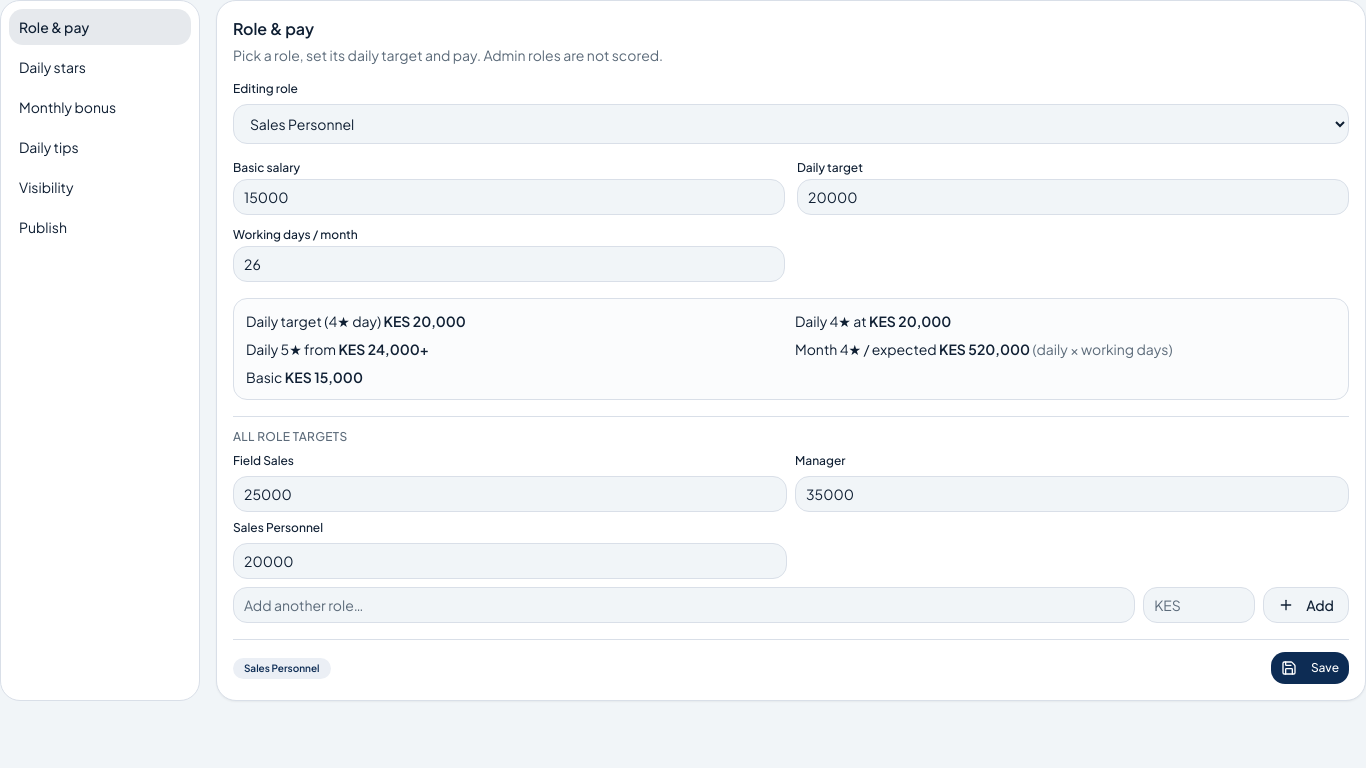
Test case: AppraisalTemplateForm › flags duplicate 4★ cash rows and restores the recommended ladder
Click the button "Monthly bonus" at (100, 107), box [9, 89, 191, 125]
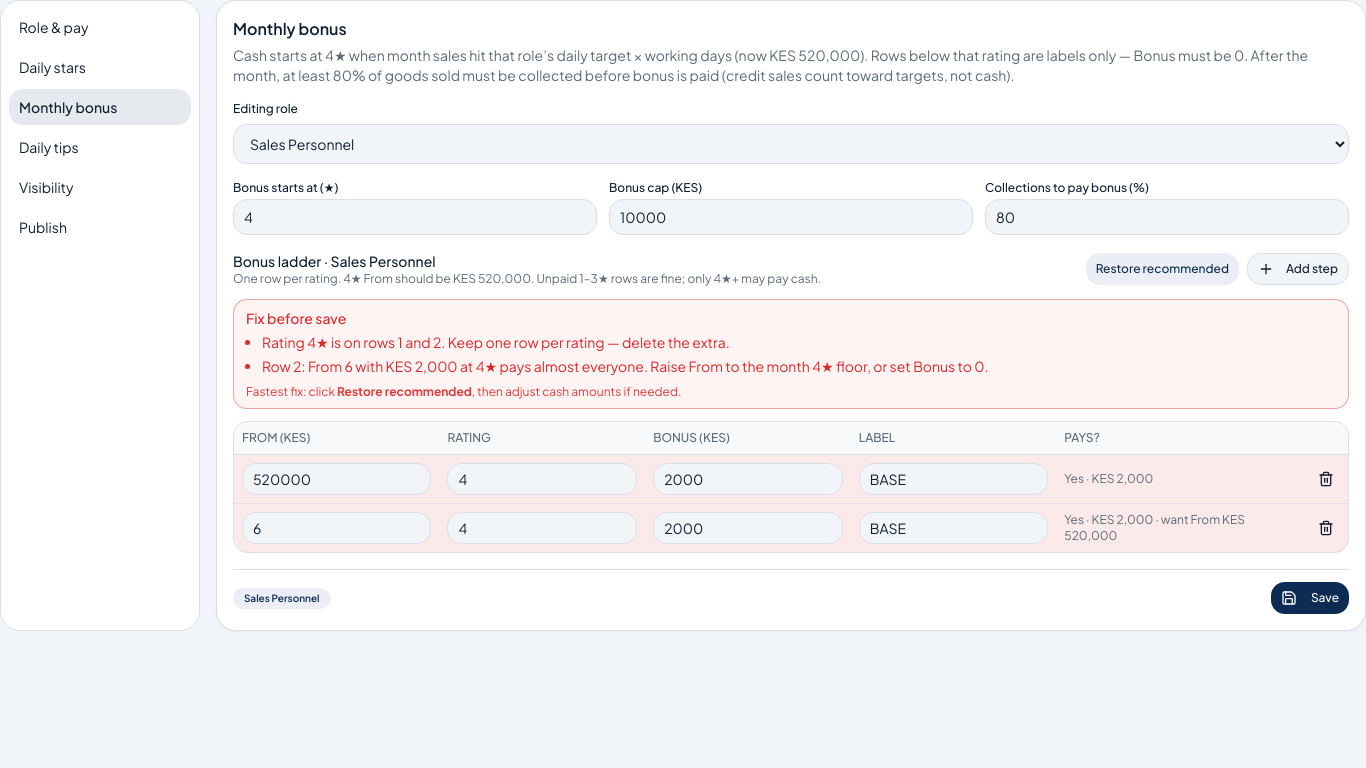
Expected: the message with test id "appraisal-bonus-problems" shows "Rating 4", [262, 333, 730, 351]
Expected: the message with test id "appraisal-bonus-problems" shows "almost everyone", [262, 357, 988, 375]
Click the button with test id "appraisal-bonus-restore" at (1162, 269), box [1086, 253, 1239, 285]
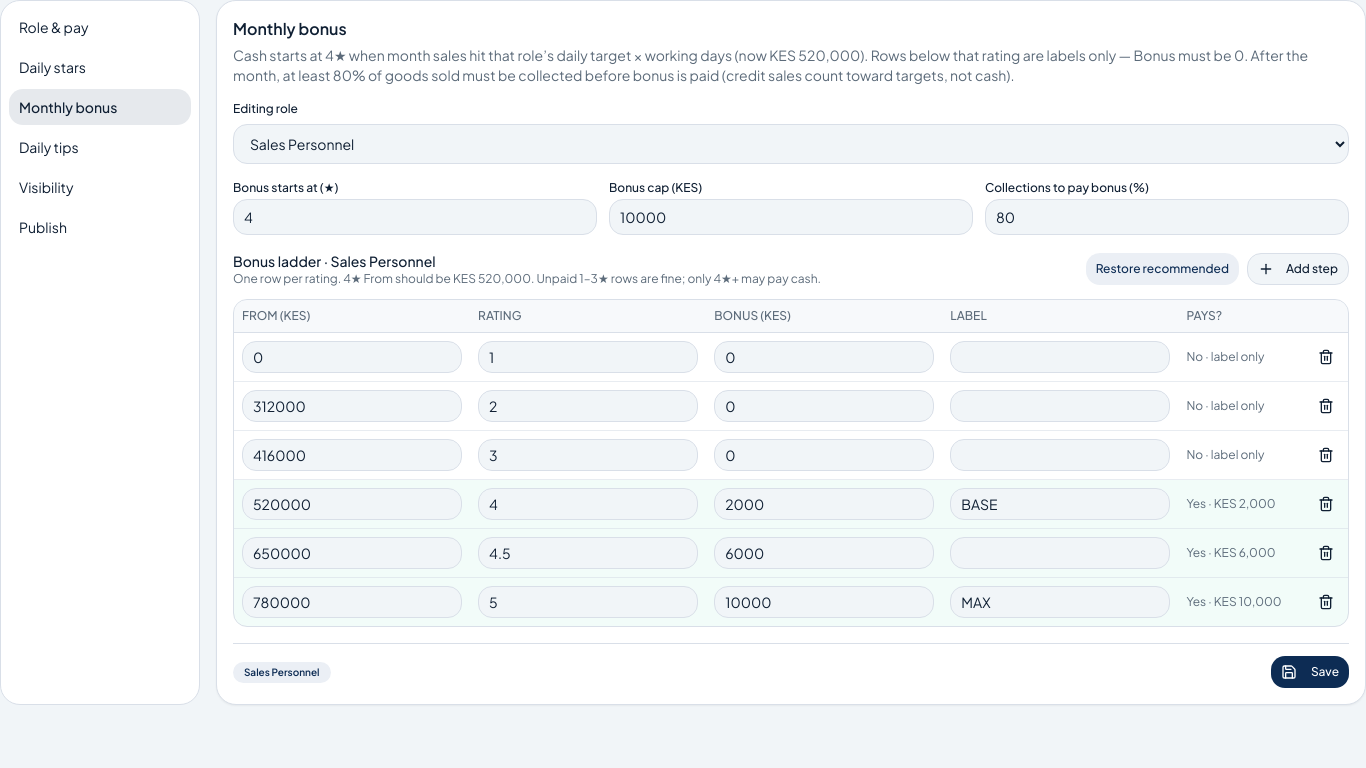
Expected: the message with test id "appraisal-bonus-problems" is gone
